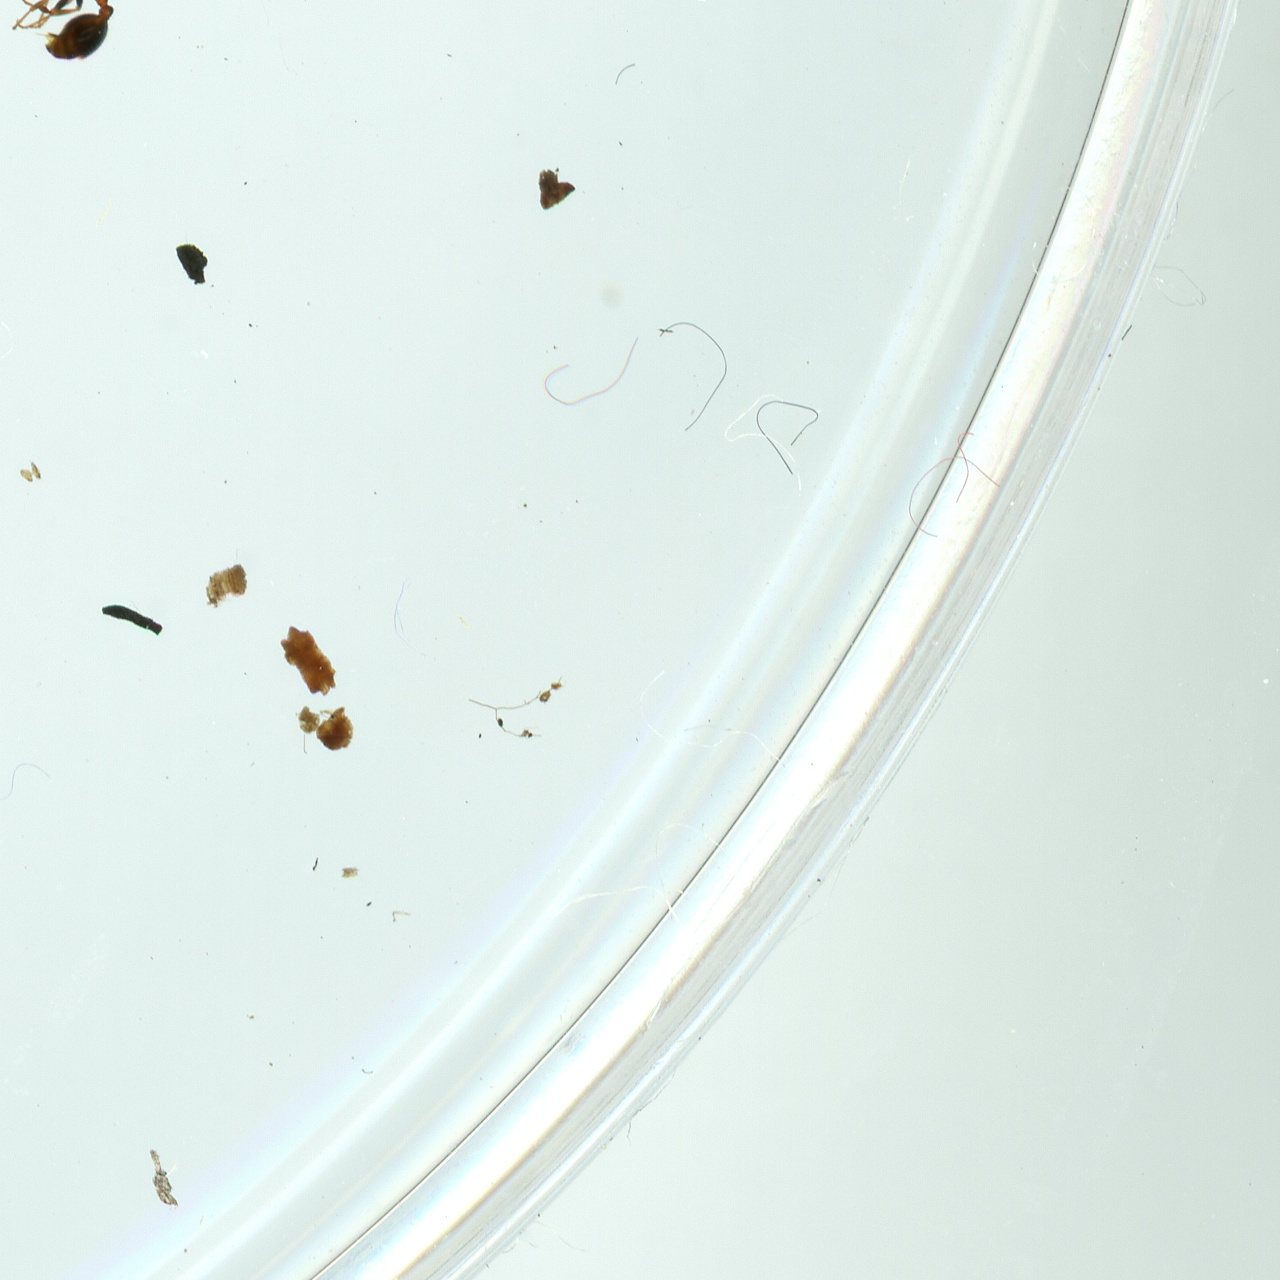arthropod: (0, 0, 123, 69)
